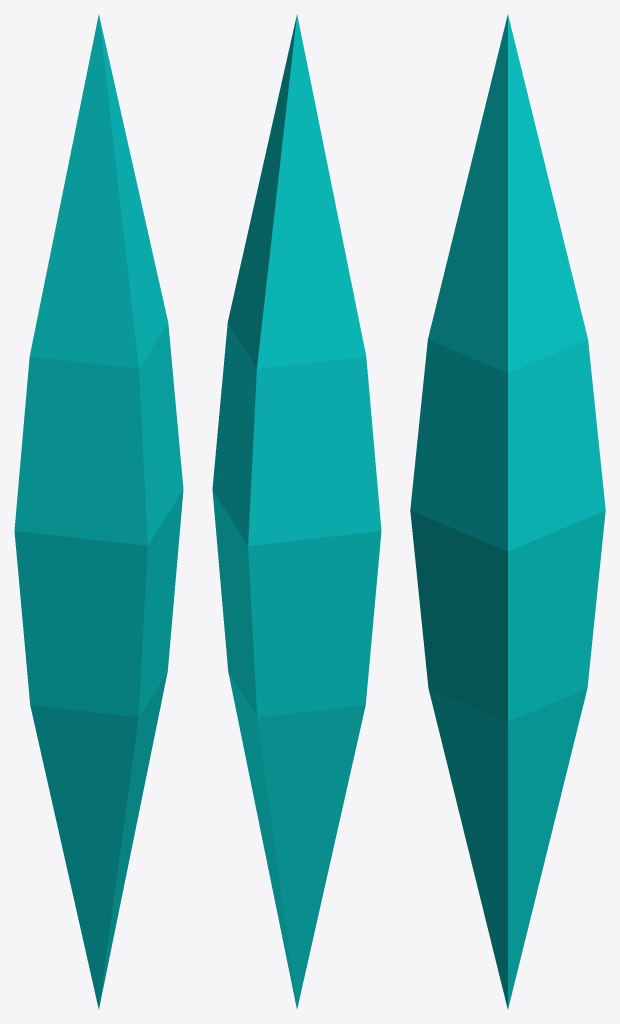
The model's file is SM_Bld_Battlements_End_03_Collision.fbx.
3 views of the same model, side by side, from view 1: azimuth 30°, elevation 25°; view 2: azimuth 150°, elevation 25°; view 3: azimuth 270°, elevation 25° (orthographic).
Visible parts, largest first — view 1: SM_Bld_Battlements_End_03_Collision; view 2: SM_Bld_Battlements_End_03_Collision; view 3: SM_Bld_Battlements_End_03_Collision.
Part boxes in pixels (<box>): SM_Bld_Battlements_End_03_Collision: <box>14,14,183,1009</box>; SM_Bld_Battlements_End_03_Collision: <box>212,14,381,1009</box>; SM_Bld_Battlements_End_03_Collision: <box>410,14,605,1009</box>.
Size of the model in its own units: 186 by 1048 by 186.
